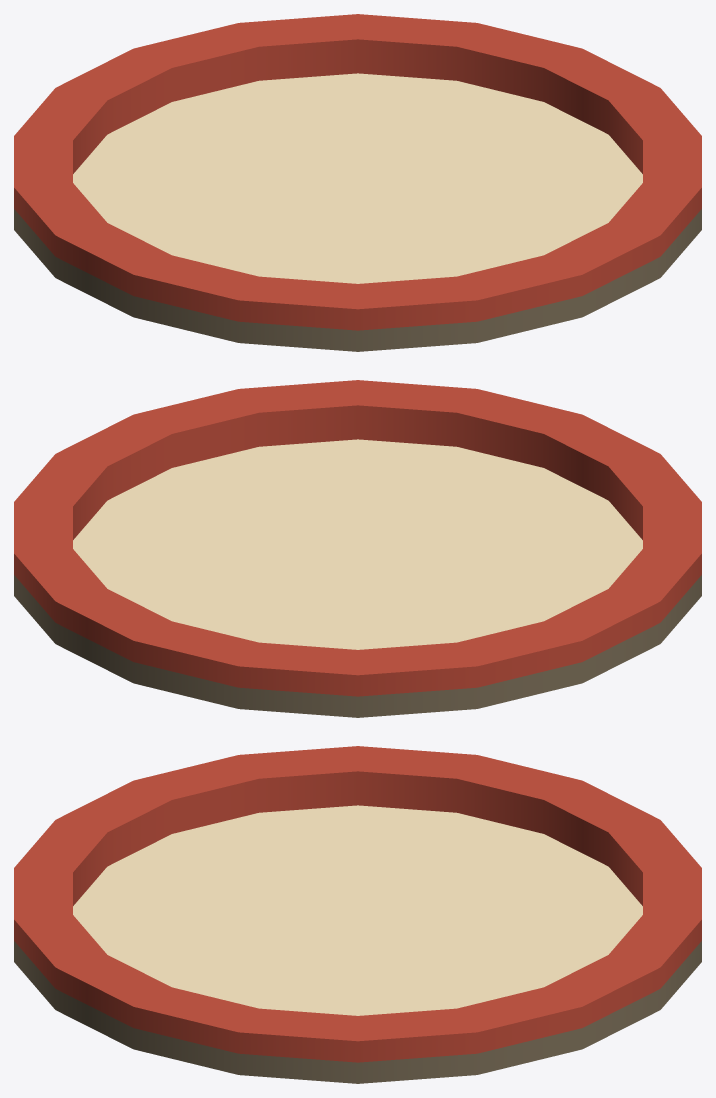
File: SM_Sandbox_02.fbx
The picture shows the model from 3 angles, top to bottom: view 1: azimuth 30°, elevation 25°; view 2: azimuth 150°, elevation 25°; view 3: azimuth 270°, elevation 25°; orthographic projection.
Parts seen in each view (by area): view 1: SM_Sandbox_02; view 2: SM_Sandbox_02; view 3: SM_Sandbox_02.
Boxes of the visible parts, <box> form: SM_Sandbox_02: <box>14,14,701,351</box>; SM_Sandbox_02: <box>14,380,701,717</box>; SM_Sandbox_02: <box>14,746,701,1083</box>.
Size of the model in its own units: 164 by 11.05 by 162.
